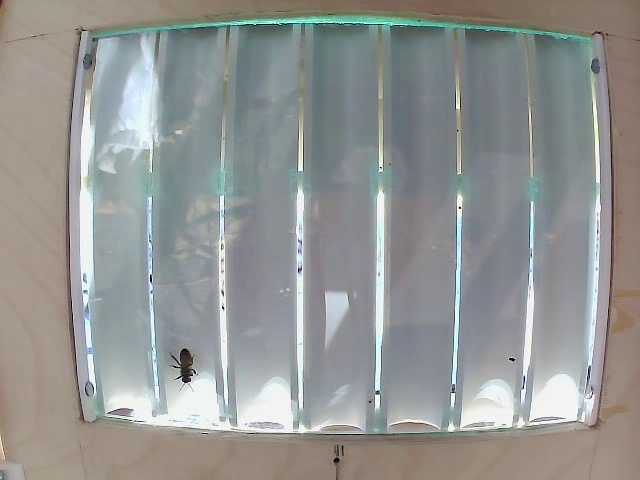bee: (162, 337, 211, 394)
